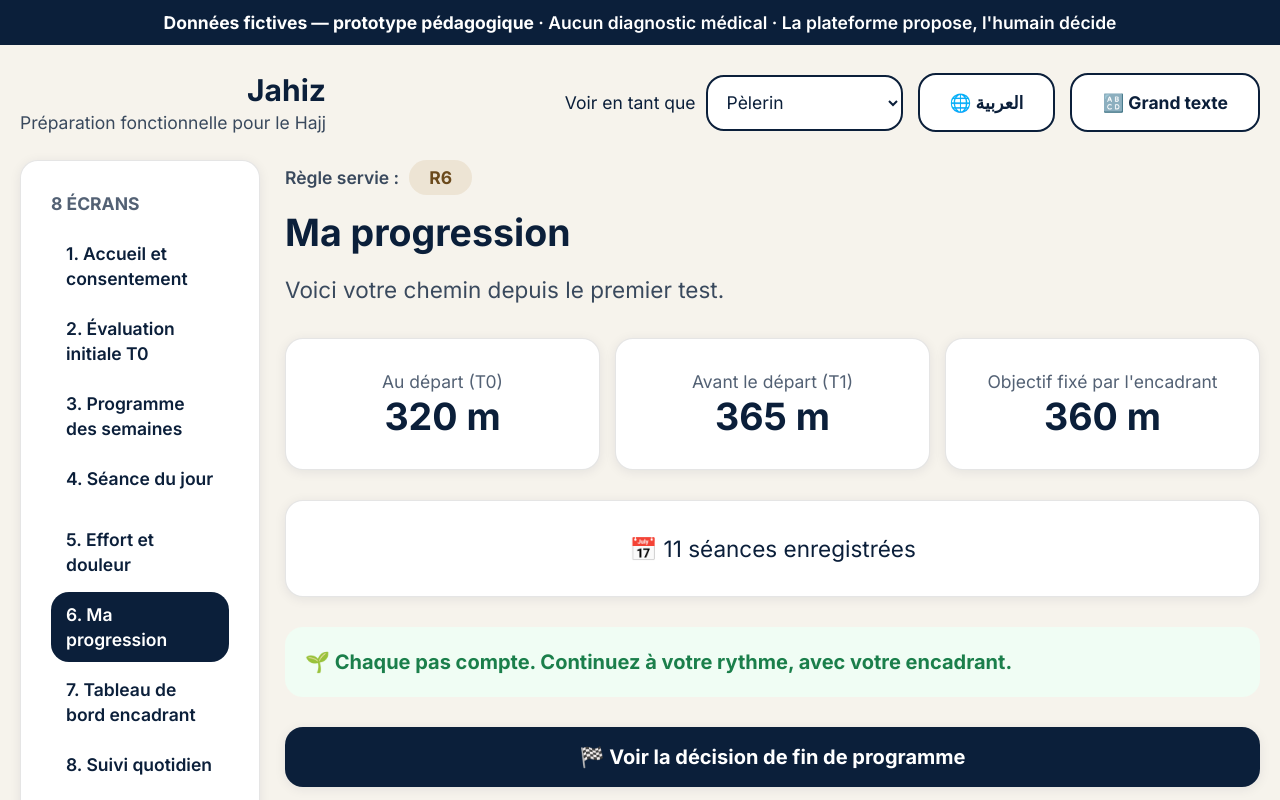
Navigation et écrans pèlerin › écran 6 — R6 est proposé après validation humaine
Expected: the text "320 m" is shown, [384, 394, 501, 439]
Click the button "🏁 Voir la décision de fin de programme". click: (772, 757)
box: [285, 727, 1260, 787]
(page scrolled)
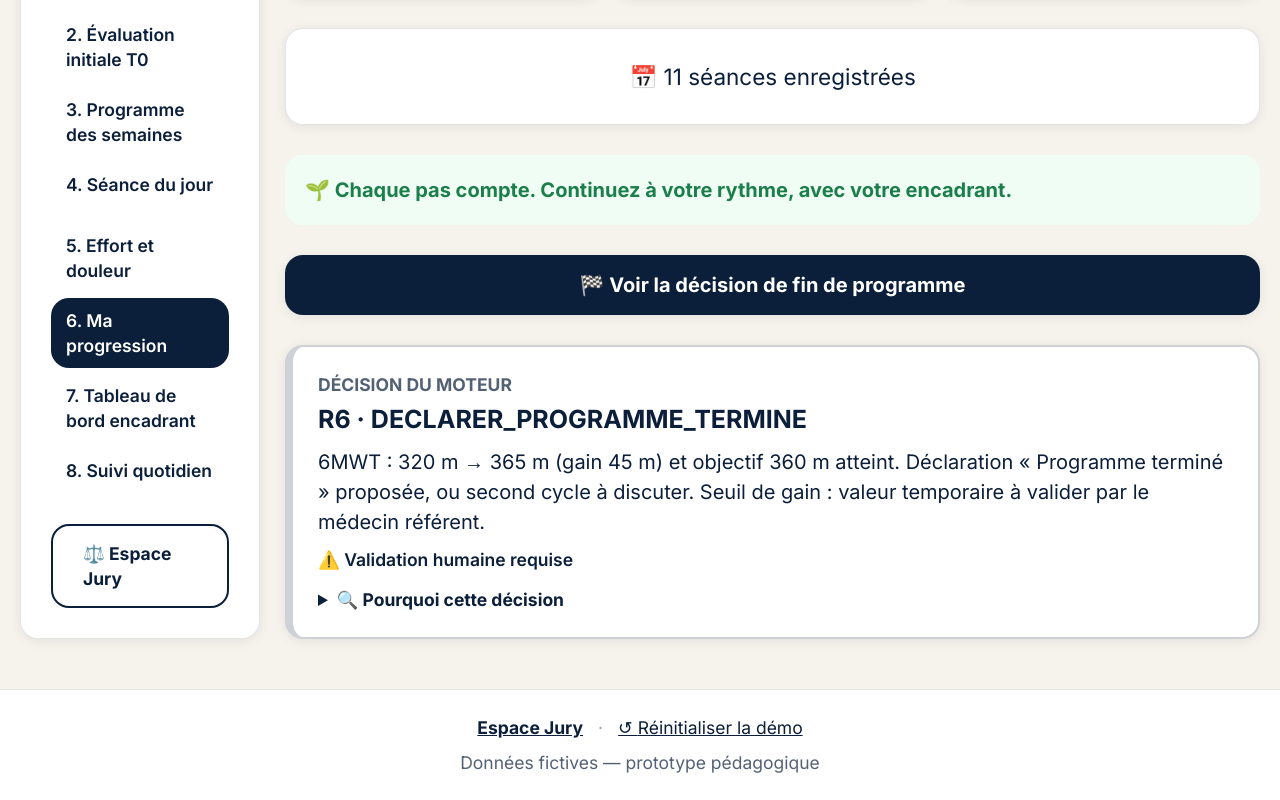
Expected: the element with test id "carte-decision" shows "R6", [318, 404, 351, 434]
Expected: the element with test id "carte-decision" shows "Validation humaine requise", [318, 549, 573, 570]
